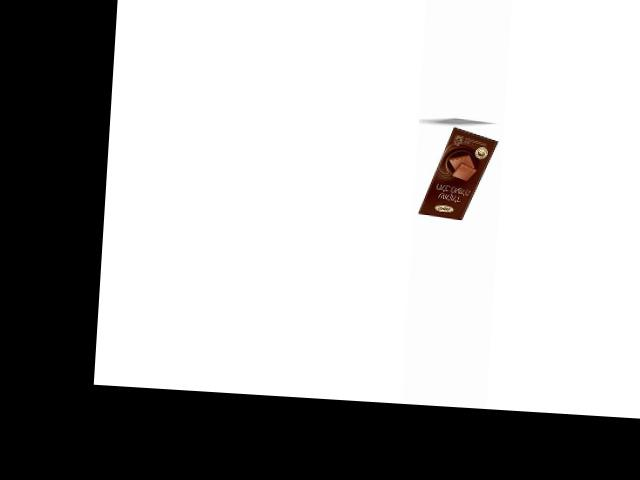chocolate: (417, 121, 501, 223)
